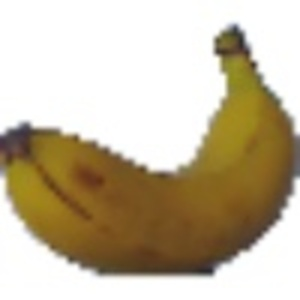banana: (2, 29, 295, 270)
